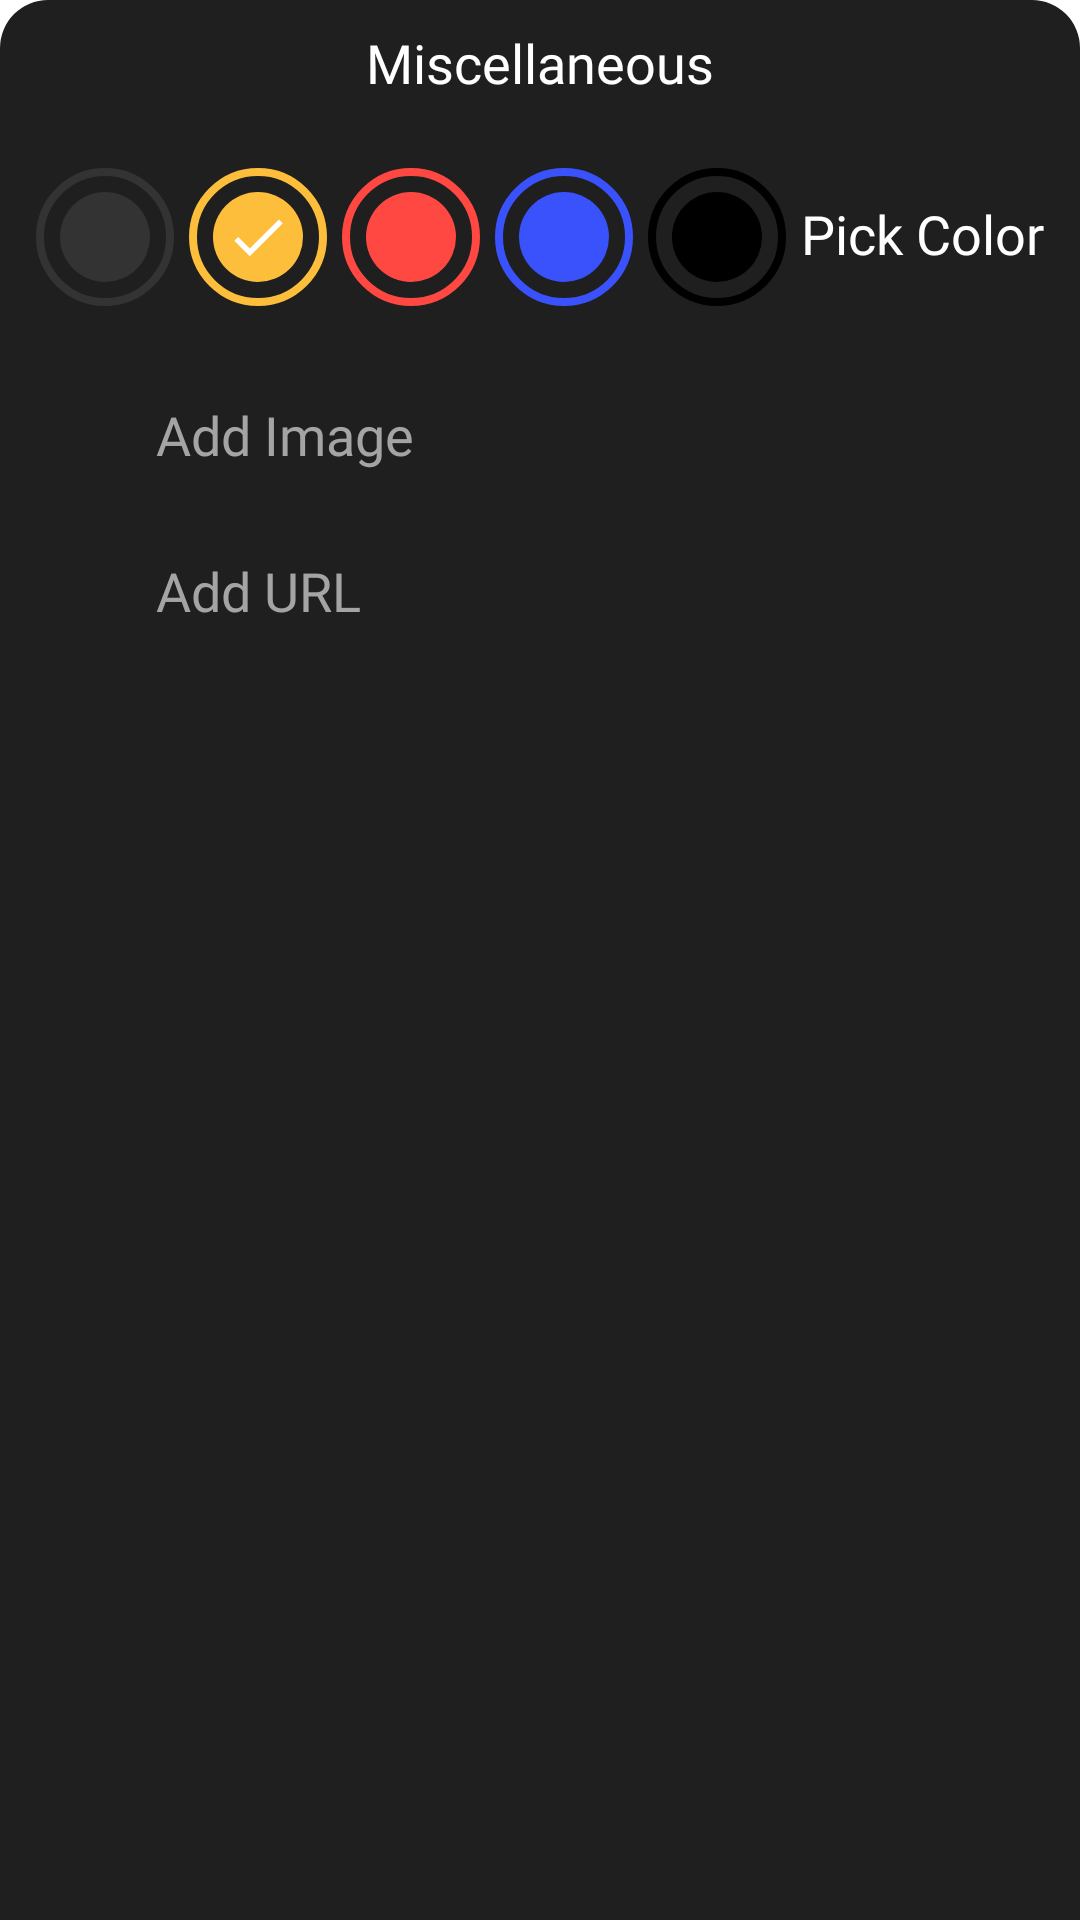

Icons on this 1080 x 1920 Android screen, each with the point to tap as (x,y):
done: (258,237)
